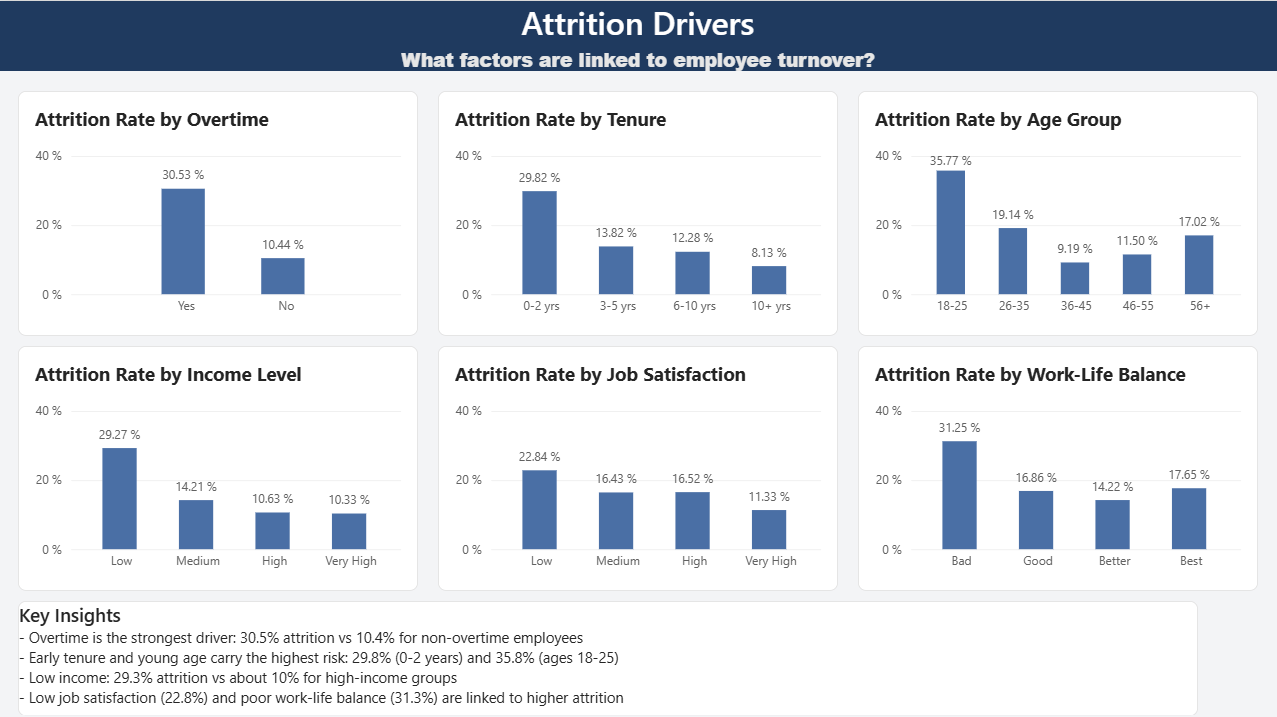

What the dashboard file says about the page in this screenshot:
{"tool":"powerbi","page":{"name":"Attrition Drivers","canvas":[1280,720],"ordinal":1},"visuals":[{"type":"shape","box":[0,0,1280,70],"z":0},{"type":"textbox","title":"Attrition Drivers","box":[20,0,1240,70],"z":1},{"type":"clusteredColumnChart","title":"Attrition Rate by Overtime","fields":{"Category":["vw_HR_Full.OverTime"],"Y":["vw_HR_Full.Attrition Rate"]},"box":[20,90,400,245],"z":2},{"type":"clusteredColumnChart","title":"Attrition Rate by Tenure","fields":{"Category":["vw_HR_Full.TenureGroup"],"Y":["vw_HR_Full.Attrition Rate"]},"box":[440,90,400,245],"z":3},{"type":"clusteredColumnChart","title":"Attrition Rate by Age Group","fields":{"Category":["vw_HR_Full.AgeGroup"],"Y":["vw_HR_Full.Attrition Rate"]},"box":[860,90,400,245],"z":4},{"type":"clusteredColumnChart","title":"Attrition Rate by Income Level","fields":{"Category":["vw_HR_Full.IncomeBand"],"Y":["vw_HR_Full.Attrition Rate"]},"box":[20,345,400,245],"z":5},{"type":"clusteredColumnChart","title":"Attrition Rate by Job Satisfaction","fields":{"Category":["vw_HR_Full.JobSatLevel"],"Y":["vw_HR_Full.Attrition Rate"]},"box":[440,345,400,245],"z":6},{"type":"clusteredColumnChart","title":"Attrition Rate by Work-Life Balance","fields":{"Category":["vw_HR_Full.WLBLevel"],"Y":["vw_HR_Full.Attrition Rate"]},"box":[860.2,345,400,245],"z":7},{"type":"textbox","box":[20,600,1180,115],"z":8}]}

Visuals, with their boxes in screenshot pixels (x1, y1, x2, y2), scaled from the page's 1280x720 canvas onto the 1277x717 screenshot:
shape: (left=0, top=0, right=1276, bottom=70)
"Attrition Drivers" textbox: (left=20, top=0, right=1257, bottom=70)
"Attrition Rate by Overtime" clusteredColumnChart: (left=20, top=90, right=419, bottom=334)
"Attrition Rate by Tenure" clusteredColumnChart: (left=439, top=90, right=838, bottom=334)
"Attrition Rate by Age Group" clusteredColumnChart: (left=858, top=90, right=1257, bottom=334)
"Attrition Rate by Income Level" clusteredColumnChart: (left=20, top=344, right=419, bottom=588)
"Attrition Rate by Job Satisfaction" clusteredColumnChart: (left=439, top=344, right=838, bottom=588)
"Attrition Rate by Work-Life Balance" clusteredColumnChart: (left=858, top=344, right=1257, bottom=588)
textbox: (left=20, top=598, right=1197, bottom=712)
